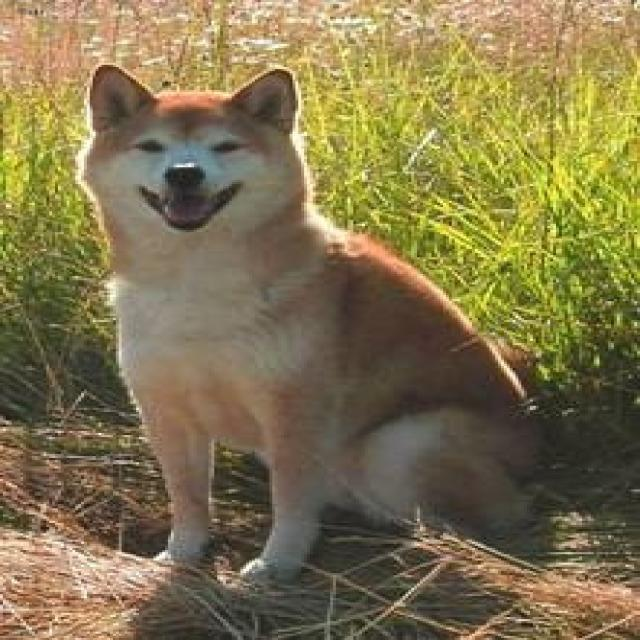dog-shiba_inu: (67, 52, 573, 594)
